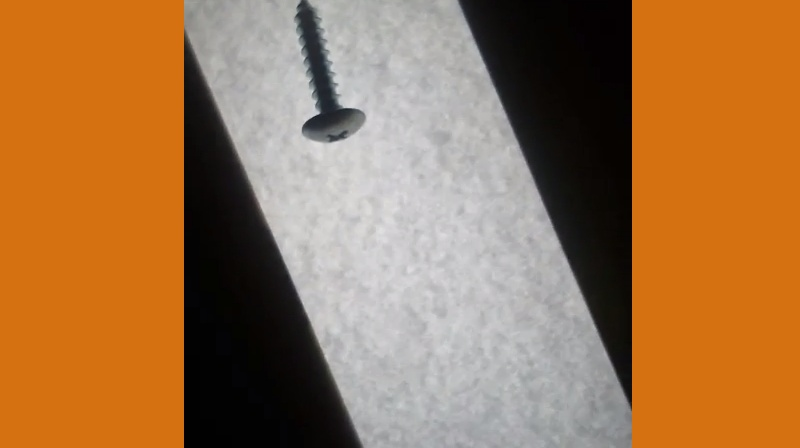S003: (290, 0, 370, 146)
